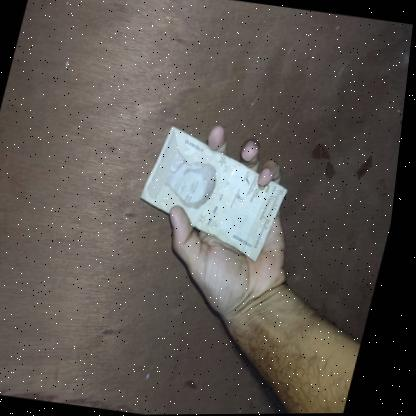five-front-vef: (131, 123, 304, 266)
